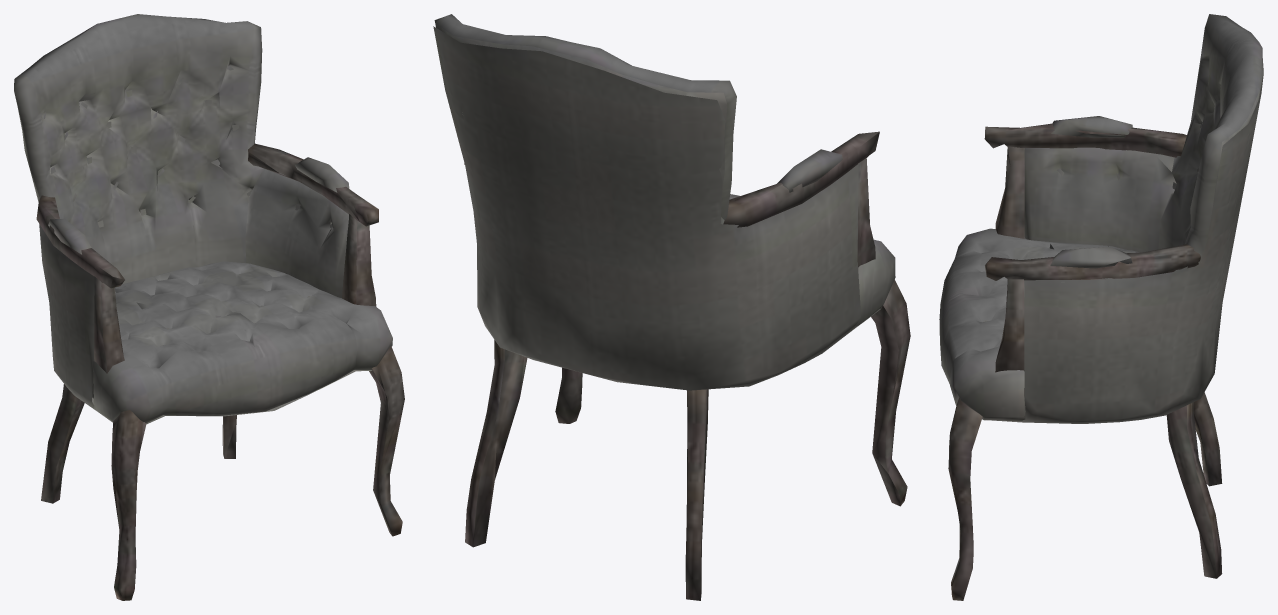
File: Chair0014.obj
3 views of the same model, side by side, from view 1: azimuth 30°, elevation 25°; view 2: azimuth 150°, elevation 25°; view 3: azimuth 270°, elevation 25° (orthographic). The views are drawn at different scales.
Size of the model in its own units: 0.705 by 1.05 by 0.651.
1 material, 1 textured.
